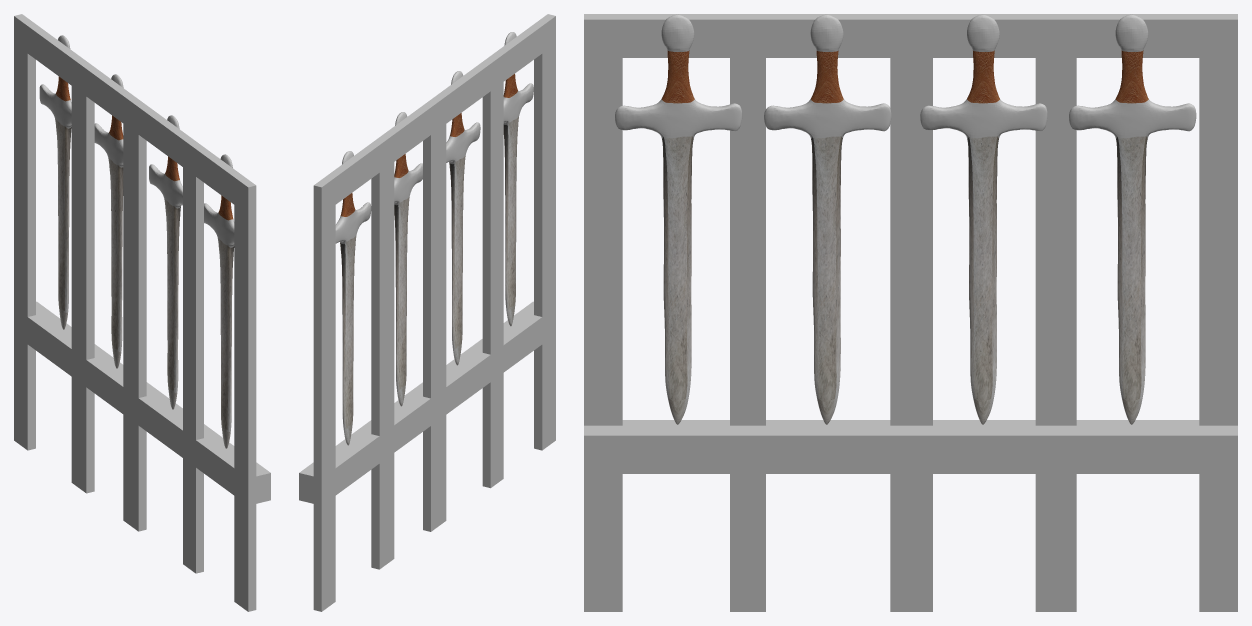
Rendered from sword_rack_2.fbx.
The picture shows the model from 3 angles, left to right: view 1: azimuth 30°, elevation 25°; view 2: azimuth 150°, elevation 25°; view 3: azimuth 270°, elevation 25°; orthographic projection. The views are drawn at different scales.
Parts seen in each view (by area): view 1: RackVert.001, Sword.002, Sword.001, Sword, Sword.003; view 2: RackVert.001, Sword.001, Sword.002, Sword.003, Sword; view 3: RackVert.001, Sword.001, Sword.003, Sword.002, Sword.
Part boxes in pixels (box(x1,y1,x2,y2)): RackVert.001: box(14, 14, 270, 611); Sword.002: box(149, 115, 182, 409); Sword.001: box(39, 35, 71, 329); Sword: box(94, 74, 123, 368); Sword.003: box(204, 154, 234, 448); RackVert.001: box(299, 14, 555, 611); Sword.001: box(335, 151, 371, 445); Sword.002: box(446, 71, 480, 365); Sword.003: box(503, 32, 533, 326); Sword: box(394, 112, 422, 406); RackVert.001: box(584, 14, 1237, 611); Sword.001: box(1069, 14, 1196, 424); Sword.003: box(615, 14, 742, 424); Sword.002: box(764, 14, 891, 424); Sword: box(920, 14, 1047, 424).
Bounding box in the file's own units: 11.21 × 202 × 200.
